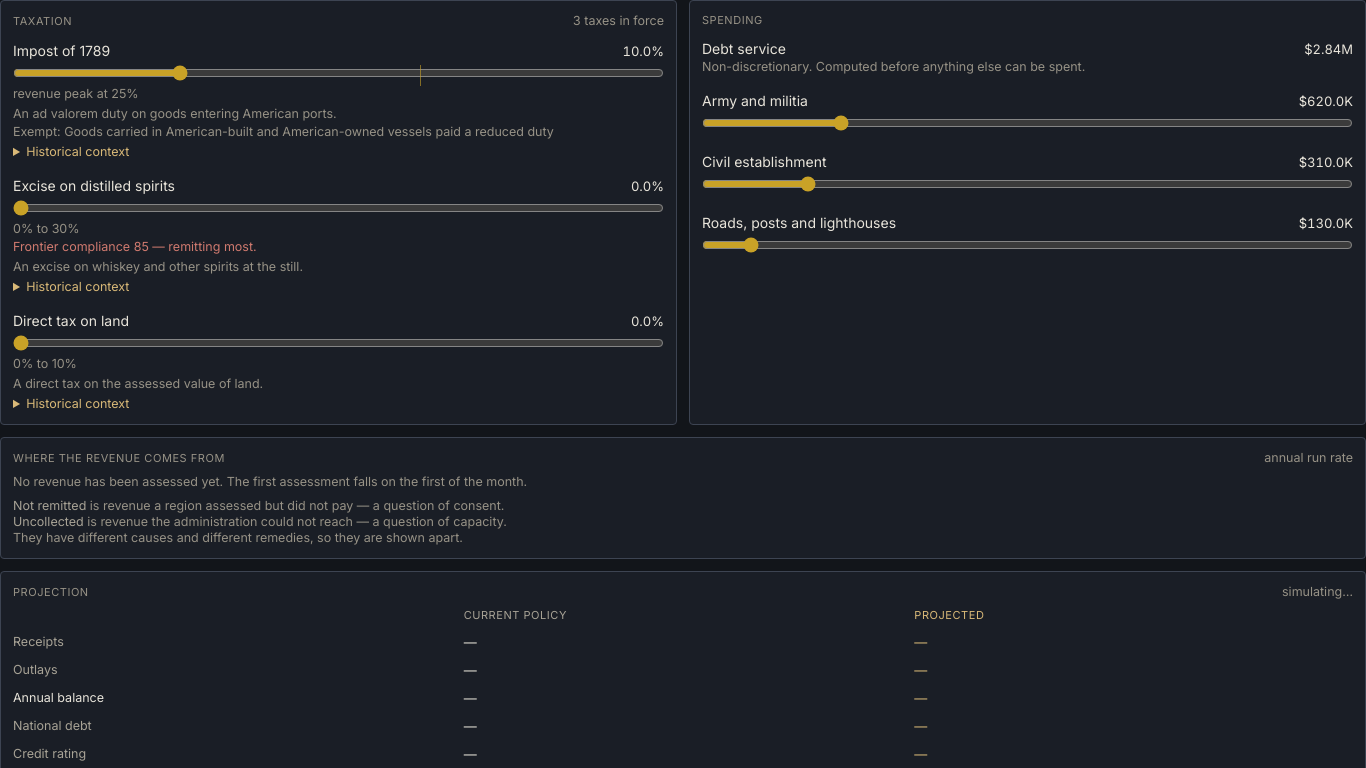
Test case: the political capital gate on enacting a budget › states the price and the reserve once a change is drafted
The image size is (1366, 768).
Set the slider labelled "Impost of 1789" to "0.2" at x=338, y=73, box [13,65,664,81]
(page scrolled)
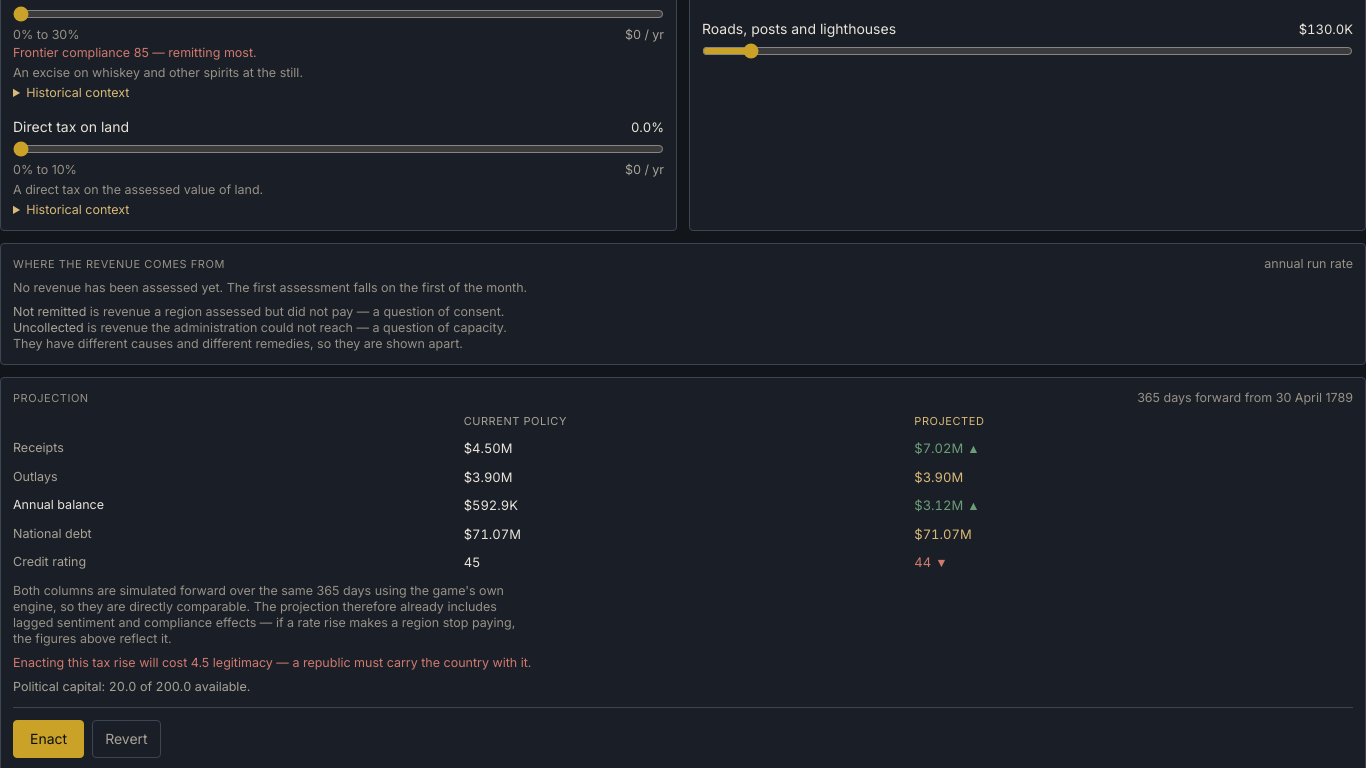
Expected: the element with test id "capital-cost" is shown, [13,679,250,694]
Expected: the element with test id "capital-cost" shows "Political capital", [13,679,105,694]
Expected: the element with test id "capital-cost" shows "200.0", [156,679,191,694]
